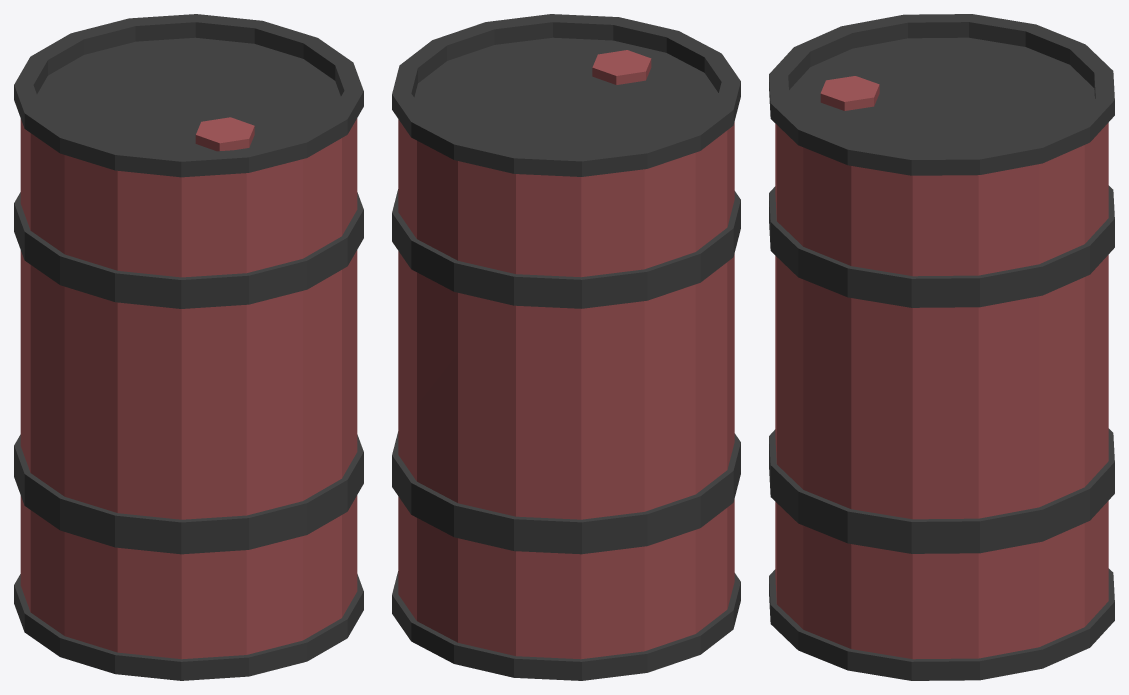
The model's file is barrel_a003.glb.
3 renders of one model, left to right at view 1: azimuth 30°, elevation 25°; view 2: azimuth 150°, elevation 25°; view 3: azimuth 270°, elevation 25°, orthographic.
Visible parts, largest first — view 1: barrel_a003; view 2: barrel_a003; view 3: barrel_a003.
Part boxes in pixels (bbox=[...]): barrel_a003: bbox=[14, 14, 363, 680]; barrel_a003: bbox=[392, 14, 740, 680]; barrel_a003: bbox=[769, 14, 1114, 680].
Bounding box in the file's own units: 0.5522 × 0.9177 × 0.5522.
1 material, 1 textured.
